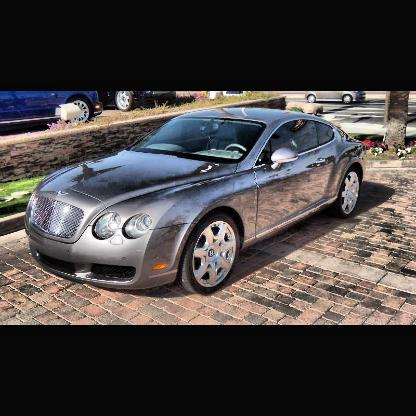Bentley Continental GT Coupe 2007: (25, 108, 368, 294)
